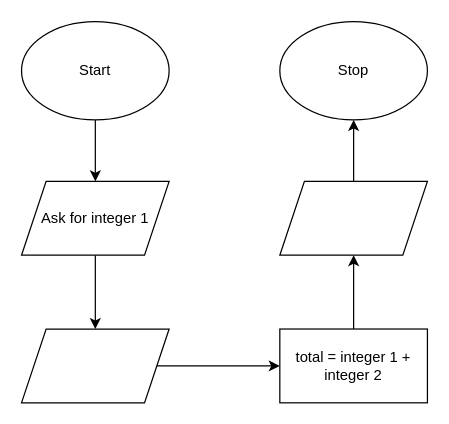
The diagram is 449 pixels wide and 424 high, and some of its shapes have lost their labels. The shapes that lost their labels are listed below. From the top down, each one's centre as x and y in pixels, then its label:
the point at 353,217: Display total
the point at 94,365: Ask for integer 2
